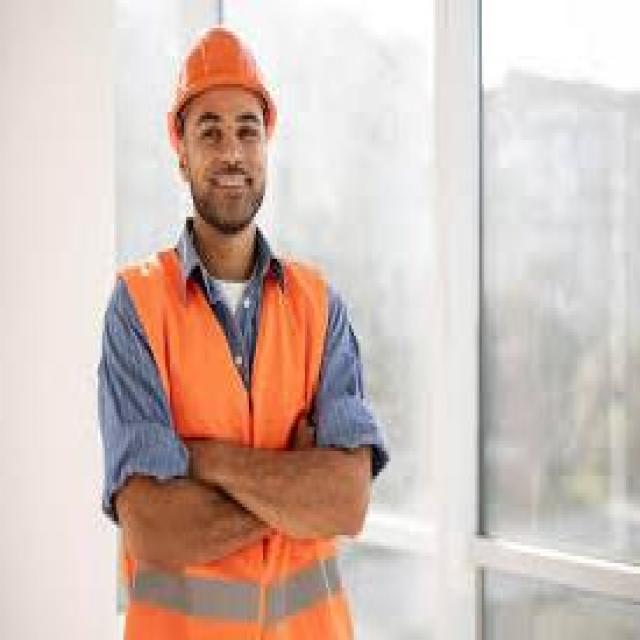Reflective-Jacket: (114, 245, 349, 629)
Safety-Helmet: (163, 21, 284, 126)
